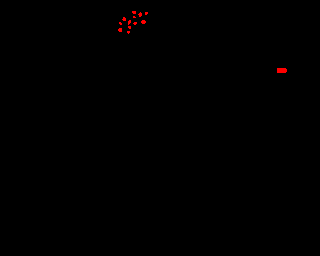Target: (277, 68, 287, 73), (138, 12, 142, 17), (141, 20, 146, 24), (122, 17, 126, 21), (118, 28, 122, 32), (128, 20, 131, 25), (132, 11, 136, 14), (133, 22, 137, 25), (145, 12, 148, 15), (119, 22, 122, 25), (128, 26, 131, 29), (127, 31, 130, 34), (133, 16, 136, 18)
